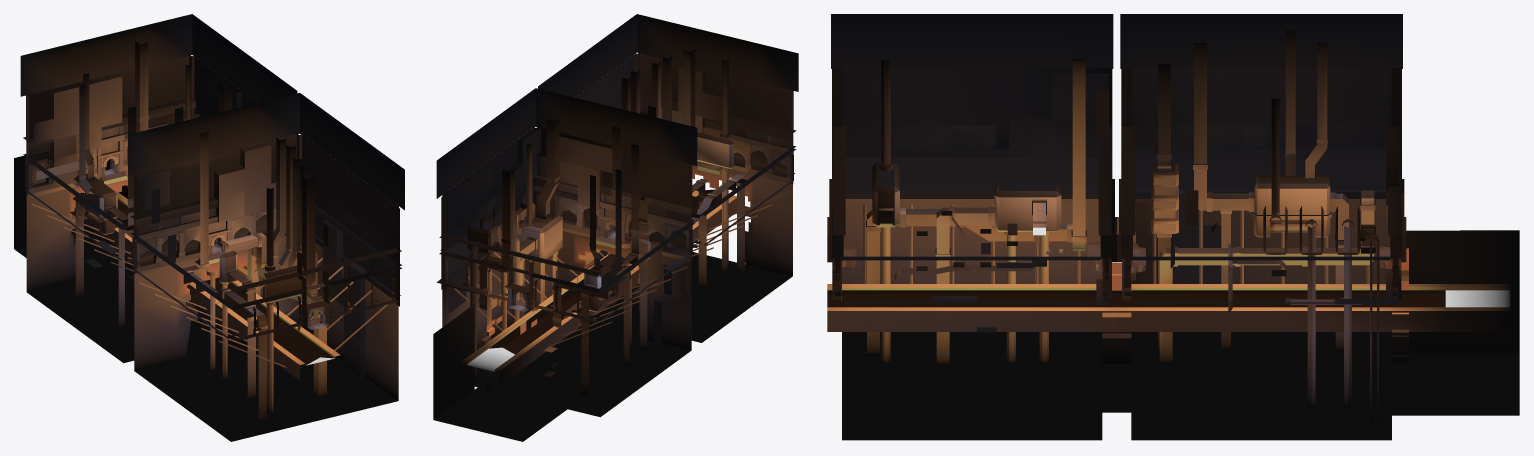
Rendered from 23Lava.gltf.
3 renders of one model, left to right at view 1: azimuth 30°, elevation 25°; view 2: azimuth 150°, elevation 25°; view 3: azimuth 270°, elevation 25°, orthographic. The views are drawn at different scales.
Parts seen in each view (by area): view 1: stg030_o27_Mesh_48, stg030_o27_Mesh_30, stg030_o28_Mesh_51, stg030_o27_Mesh_0, stg030_o28_Mesh_33, stg030_o27_Mesh_26, stg030_o28_Mesh_4, stg030_o27_Mesh_62, stg030_o28_Mesh_19, stg030_o28_Mesh_29, stg030_o27_Mesh_5, stg030_o27_Mesh_19 (+26 smaller); view 2: stg030_o28_Mesh_33, stg030_o28_Mesh_51, stg030_o28_Mesh_4, stg030_o27_Mesh_48, stg030_o27_Mesh_30, stg030_o27_Mesh_0, stg030_o28_Mesh_29, stg030_o28_Mesh_19, stg030_o27_Mesh_62, stg030_o28_Mesh_17, stg030_o28_Mesh_5, stg030_o28_Mesh_14 (+26 smaller); view 3: stg030_o28_Mesh_33, stg030_o27_Mesh_30, stg030_o27_Mesh_48, stg030_o28_Mesh_51, stg030_o28_Mesh_4, stg030_o28_Mesh_17, stg030_o28_Mesh_19, stg030_o27_Mesh_0, stg030_o27_Mesh_62, stg030_o27_Mesh_73, stg030_o27_Mesh_19, stg030_o28_Mesh_5 (+27 smaller).
Part boxes in pixels (<box>): stg030_o27_Mesh_48: <box>128,93,404,369</box>; stg030_o27_Mesh_30: <box>134,243,398,441</box>; stg030_o28_Mesh_51: <box>20,14,297,260</box>; stg030_o27_Mesh_0: <box>182,132,326,421</box>; stg030_o28_Mesh_33: <box>14,155,235,363</box>; stg030_o27_Mesh_26: <box>143,145,367,376</box>; stg030_o28_Mesh_4: <box>36,41,232,328</box>; stg030_o27_Mesh_62: <box>133,137,397,246</box>; stg030_o28_Mesh_19: <box>26,55,257,137</box>; stg030_o28_Mesh_29: <box>34,71,244,279</box>; stg030_o27_Mesh_5: <box>139,188,388,413</box>; stg030_o27_Mesh_19: <box>133,134,396,311</box>; stg030_o28_Mesh_33: <box>433,221,691,441</box>; stg030_o28_Mesh_51: <box>436,88,697,327</box>; stg030_o28_Mesh_4: <box>470,118,651,396</box>; stg030_o27_Mesh_48: <box>538,14,798,246</box>; stg030_o27_Mesh_30: <box>578,161,792,342</box>; stg030_o27_Mesh_0: <box>606,49,746,306</box>; stg030_o28_Mesh_29: <box>436,128,685,350</box>; stg030_o28_Mesh_19: <box>444,127,692,232</box>; stg030_o27_Mesh_62: <box>575,55,793,130</box>; stg030_o28_Mesh_17: <box>461,208,650,385</box>; stg030_o28_Mesh_5: <box>454,143,687,379</box>; stg030_o28_Mesh_14: <box>464,160,662,323</box>; stg030_o28_Mesh_33: <box>1131,199,1519,440</box>; stg030_o27_Mesh_30: <box>842,199,1131,440</box>; stg030_o27_Mesh_48: <box>831,14,1113,283</box>; stg030_o28_Mesh_51: <box>1120,14,1402,283</box>; stg030_o28_Mesh_4: <box>1151,30,1374,363</box>; stg030_o28_Mesh_17: <box>1117,177,1510,331</box>; stg030_o28_Mesh_19: <box>1134,67,1387,125</box>; stg030_o27_Mesh_0: <box>867,59,1085,364</box>; stg030_o27_Mesh_62: <box>845,67,1097,125</box>; stg030_o27_Mesh_73: <box>827,284,1116,331</box>; stg030_o27_Mesh_19: <box>845,157,1097,190</box>; stg030_o28_Mesh_5: <box>1152,98,1379,421</box>.
Size of the model in its own units: 94.87 by 120 by 239.
